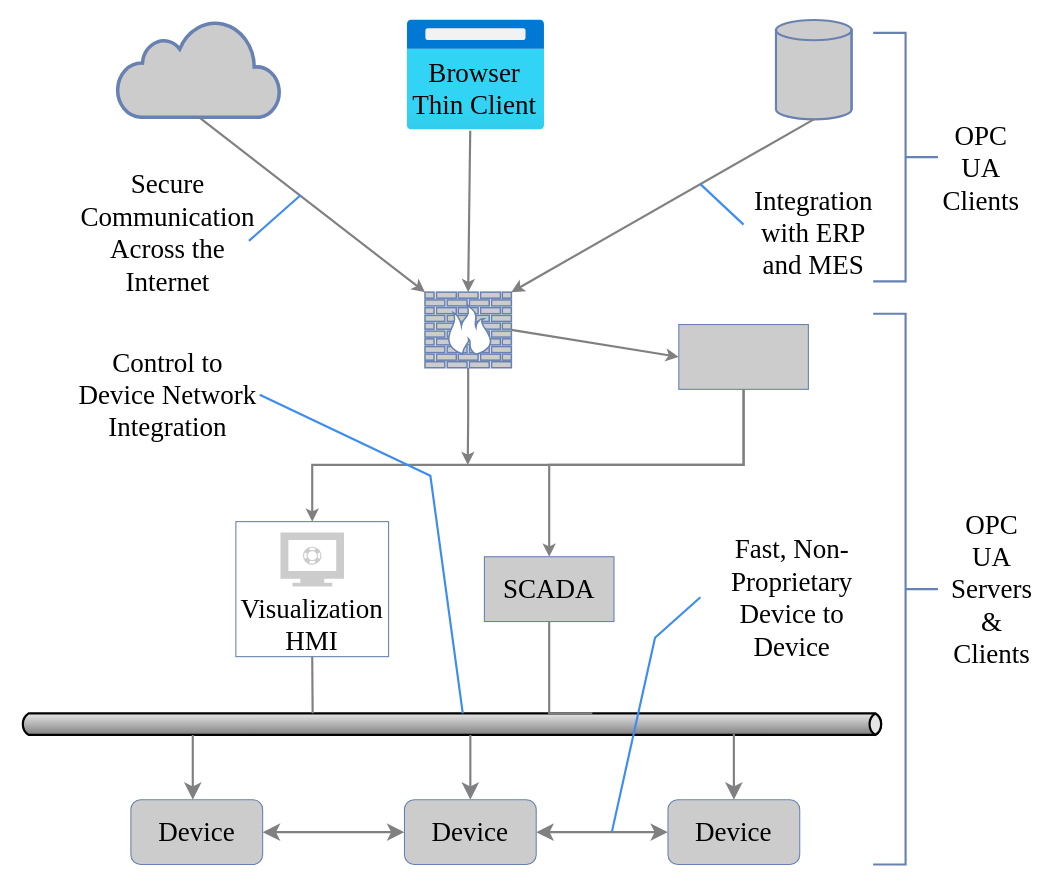
This 1051x883 diagram has some shape labels left out. Each missing label, with the centre of its shape:
"Cloud Application" belongs at point (198, 68).
"ERP" belongs at point (813, 69).
"MES" belongs at point (743, 356).
